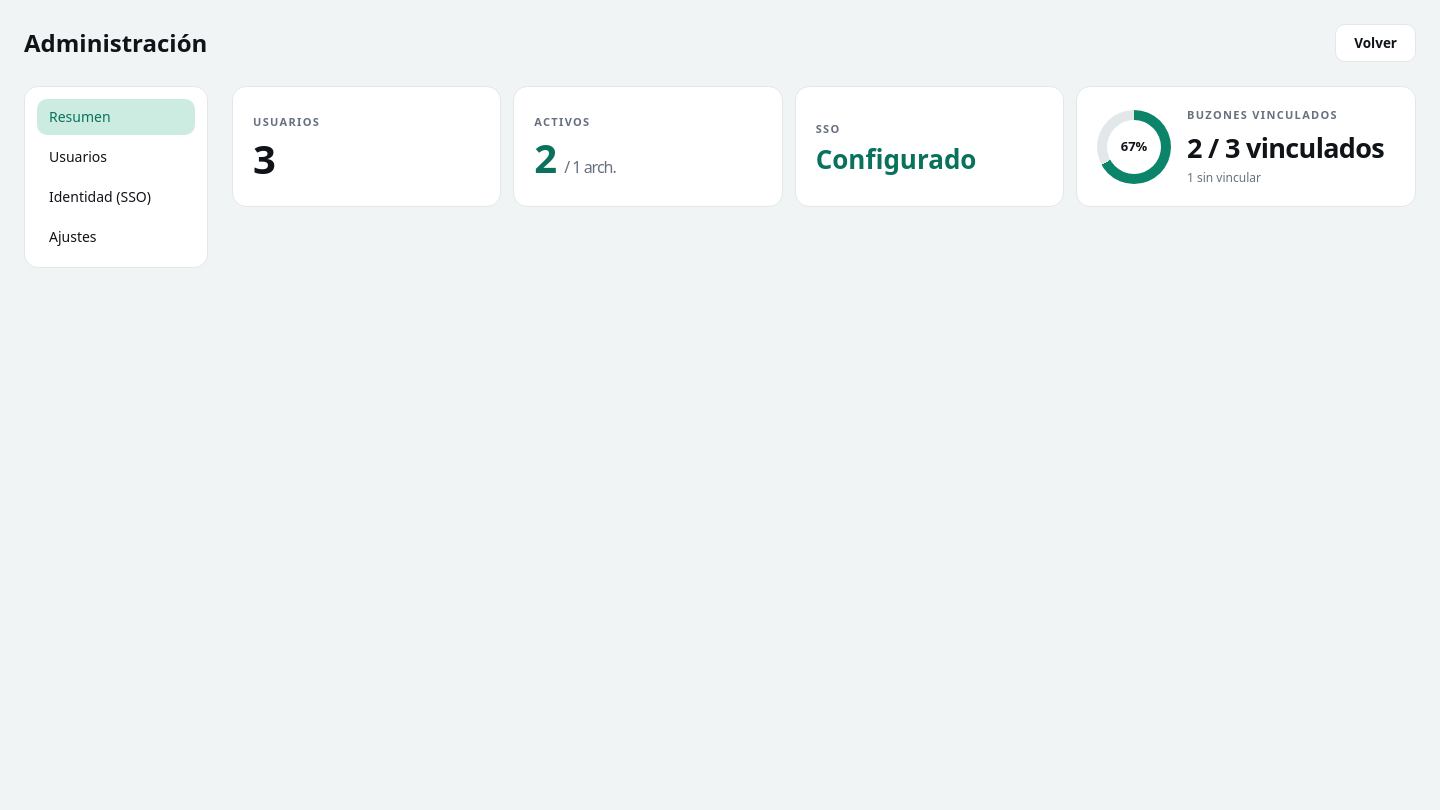
Test: AdminPage console shell › switches to Usuarios and shows the existing users table
expect the text "3" is shown: met, box x1=253 y1=131 x2=275 y2=186
Click the button "Usuarios". click: (116, 157)
box: x1=37 y1=139 x2=195 y2=175
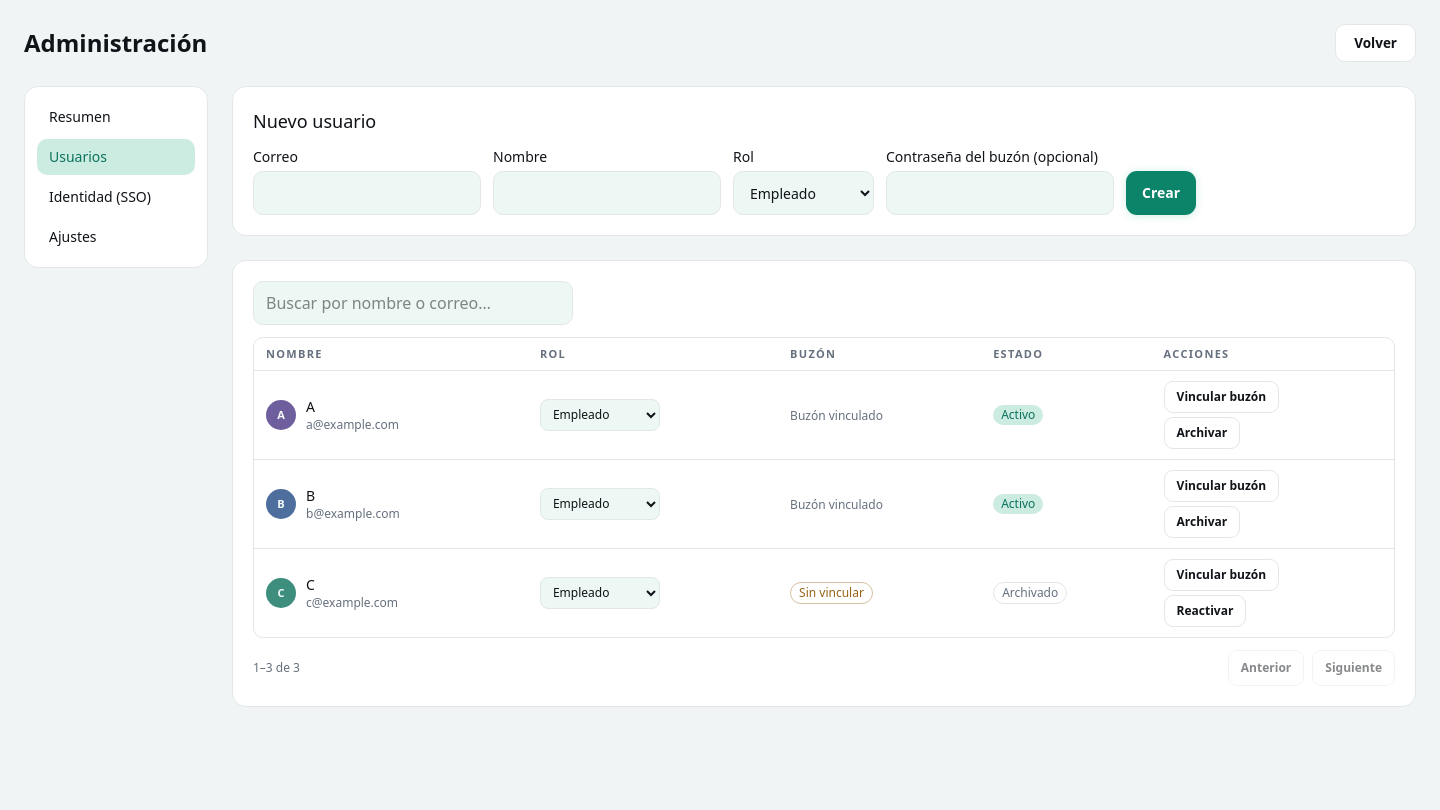
expect the table is shown: met, box x1=254 y1=338 x2=1394 y2=637
expect the text "a@example.com" is shown: met, box x1=306 y1=417 x2=399 y2=433
